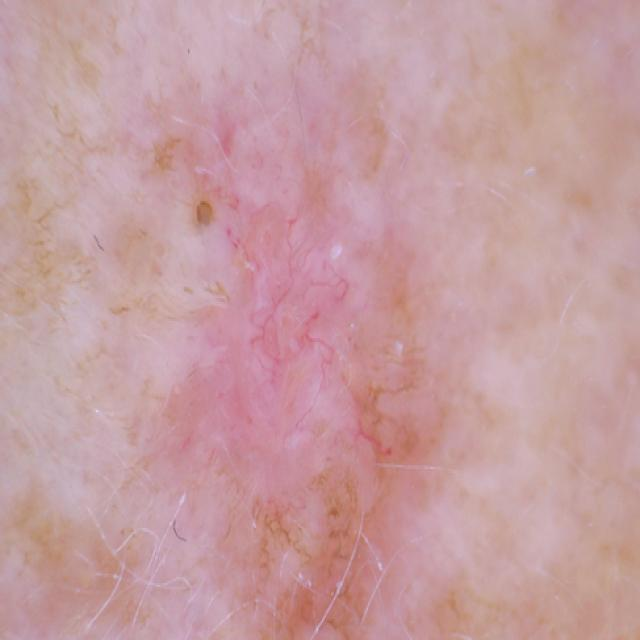Carcinoma: (120, 112, 465, 640)
